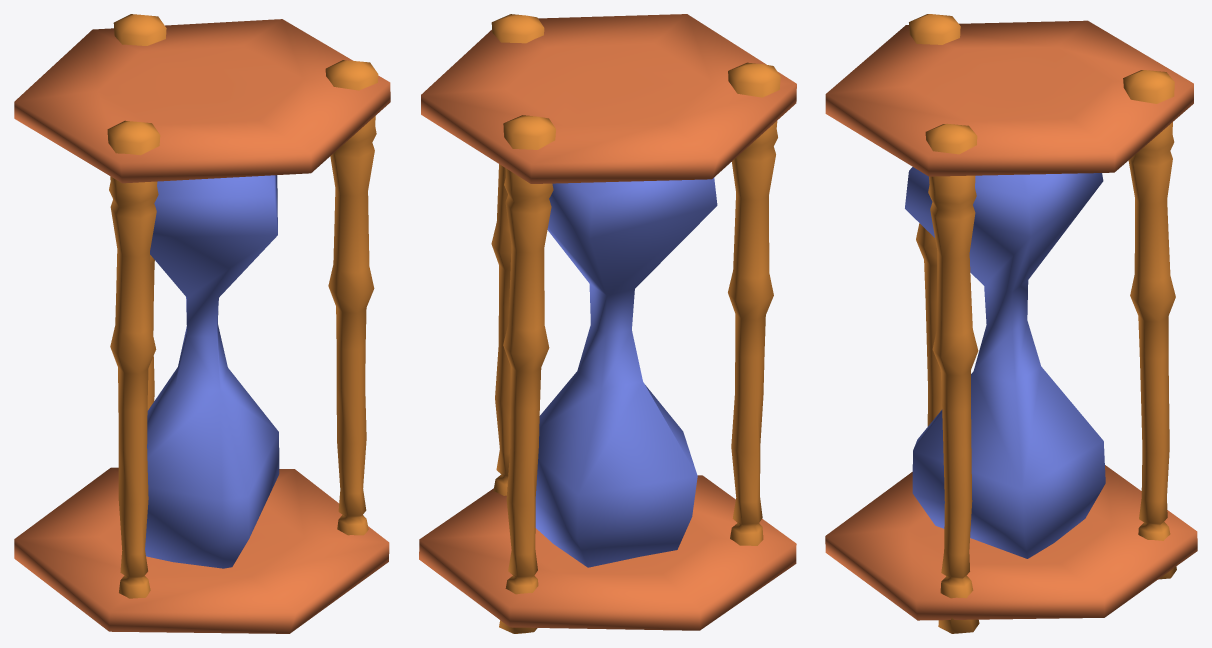
File: reloj_low.fbx
3 views of the same model, side by side, from view 1: azimuth 30°, elevation 25°; view 2: azimuth 150°, elevation 25°; view 3: azimuth 270°, elevation 25° (orthographic).
Parts seen in each view (by area): view 1: Reloj_Low; view 2: Reloj_Low; view 3: Reloj_Low.
Part boxes in pixels (box(x1,y1,x2,y2)): Reloj_Low: box(14, 14, 390, 633); Reloj_Low: box(419, 14, 796, 633); Reloj_Low: box(825, 14, 1197, 633).
Bounding box in the file's own units: 9120 × 14946 × 10085.
